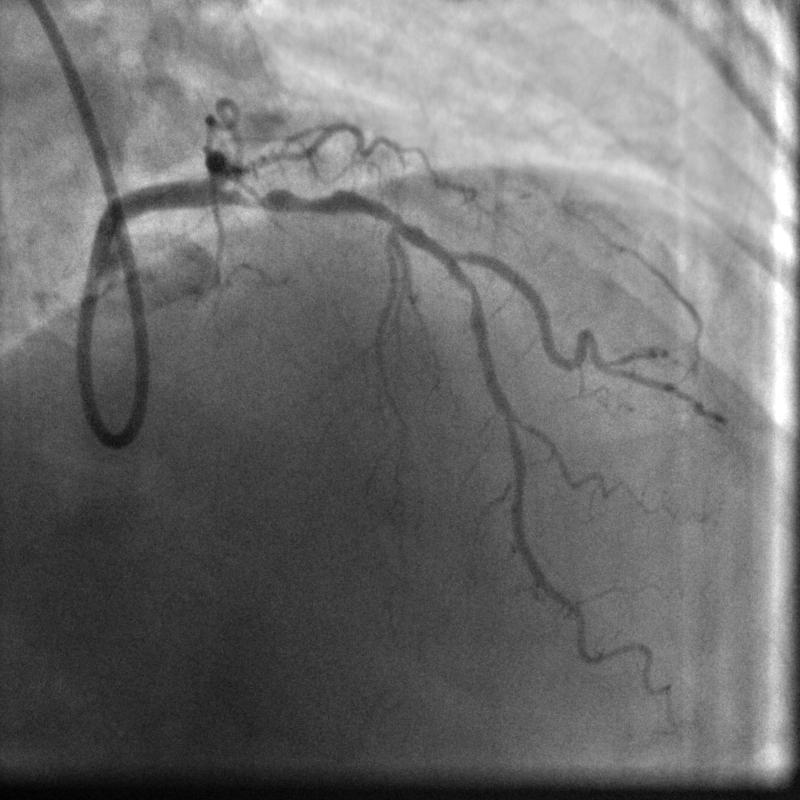Stenosis: (234, 172, 346, 213)
